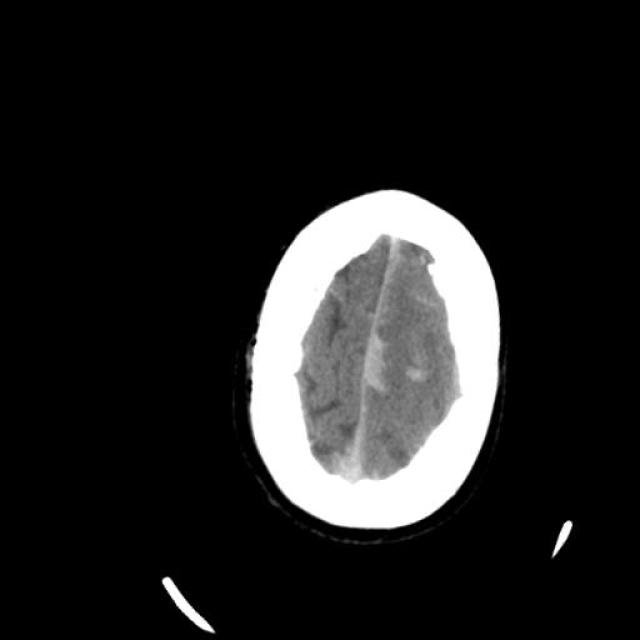Subdural: (284, 230, 454, 494)
